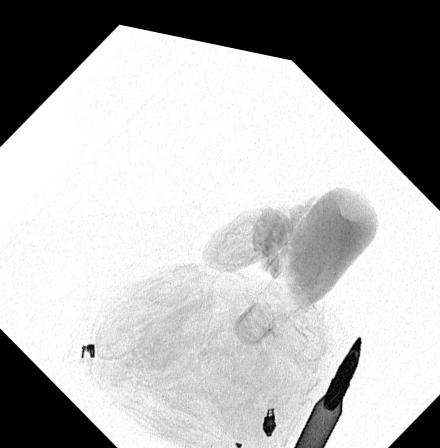Bullet: (286, 319, 360, 448)
